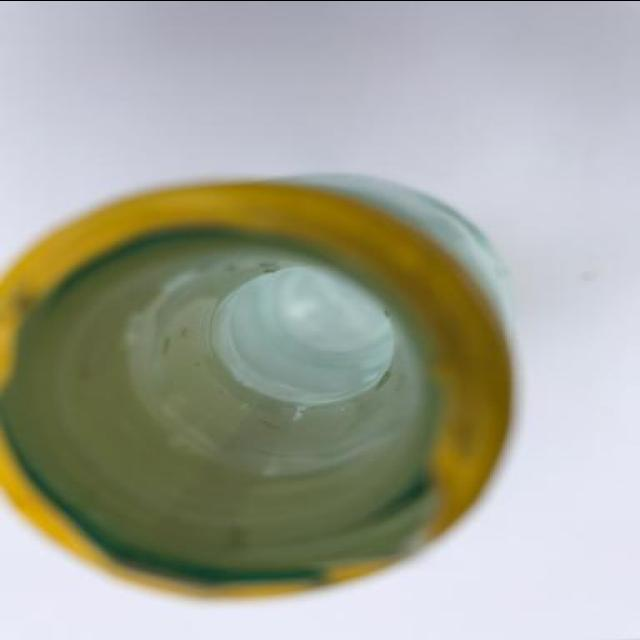Glass Bottle: (1, 168, 526, 600)
